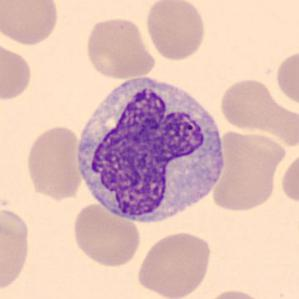Monocyte: (70, 69, 231, 230)
RBC: (208, 127, 282, 215), (134, 229, 212, 299), (70, 201, 143, 269), (83, 15, 157, 81), (23, 123, 84, 202), (144, 0, 208, 62), (217, 76, 275, 131), (0, 204, 32, 294), (0, 0, 61, 47), (0, 40, 34, 103), (273, 48, 298, 107), (279, 150, 298, 207), (202, 286, 269, 299)
